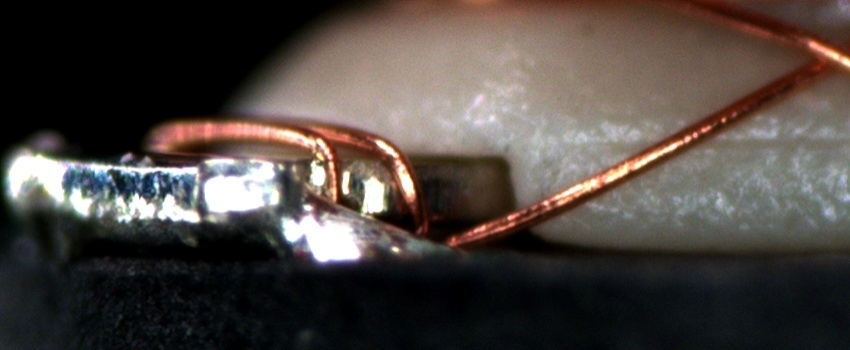DL: (553, 108, 850, 172)
TE: (149, 107, 437, 237)
